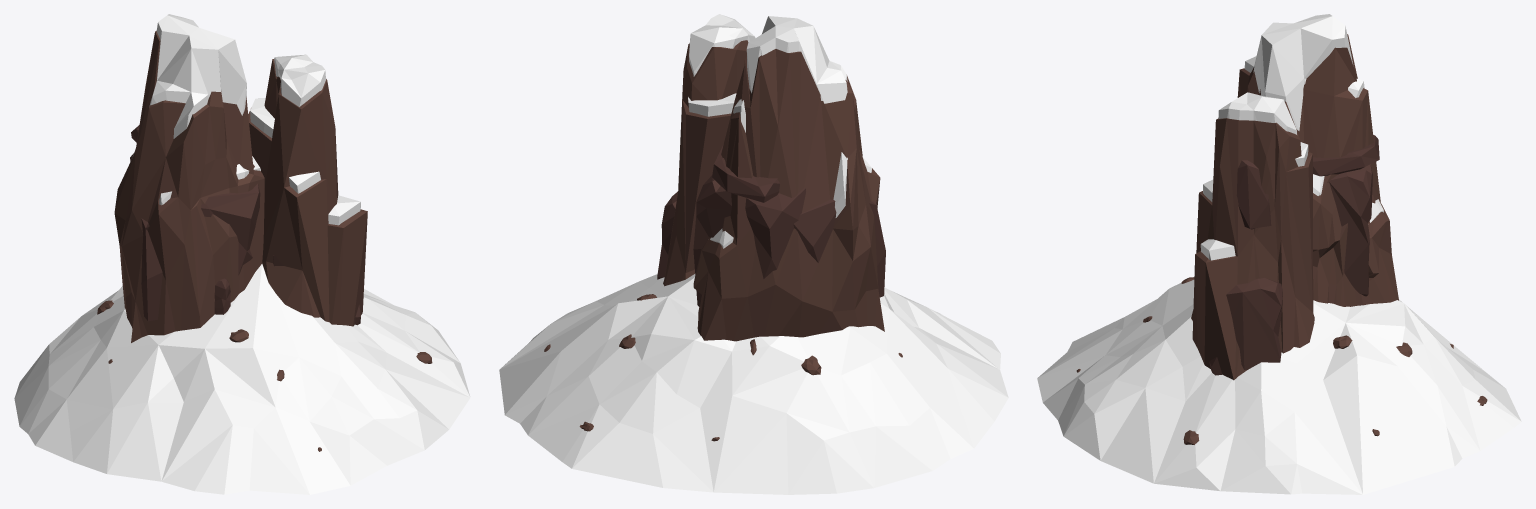
The model's file is snow_crag_001.fbx.
The picture shows the model from 3 angles, left to right: view 1: azimuth 30°, elevation 25°; view 2: azimuth 150°, elevation 25°; view 3: azimuth 270°, elevation 25°; orthographic projection. The views are drawn at different scales.
Parts seen in each view (by area): view 1: snow_crag_001; view 2: snow_crag_001; view 3: snow_crag_001.
Part boxes in pixels (bbox=[...]): snow_crag_001: bbox=[14, 14, 470, 494]; snow_crag_001: bbox=[499, 14, 1008, 494]; snow_crag_001: bbox=[1037, 14, 1521, 494].
Size of the model in its own units: 7070 by 7303 by 6174.
